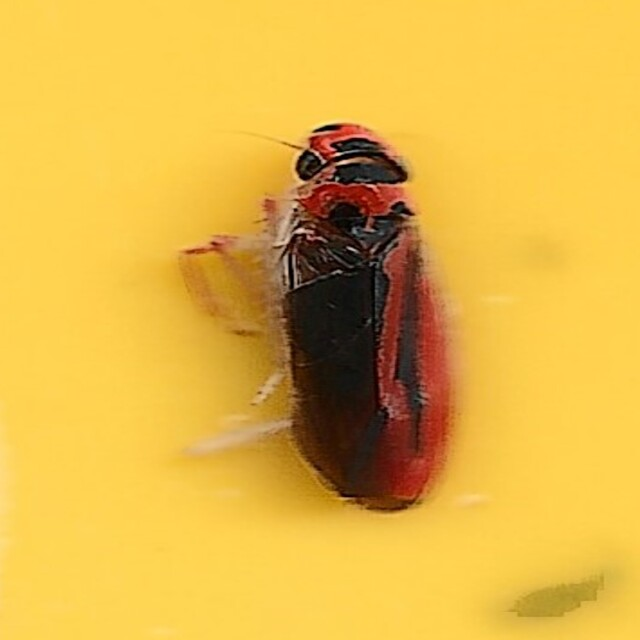Hemiptera: (180, 122, 460, 518)
